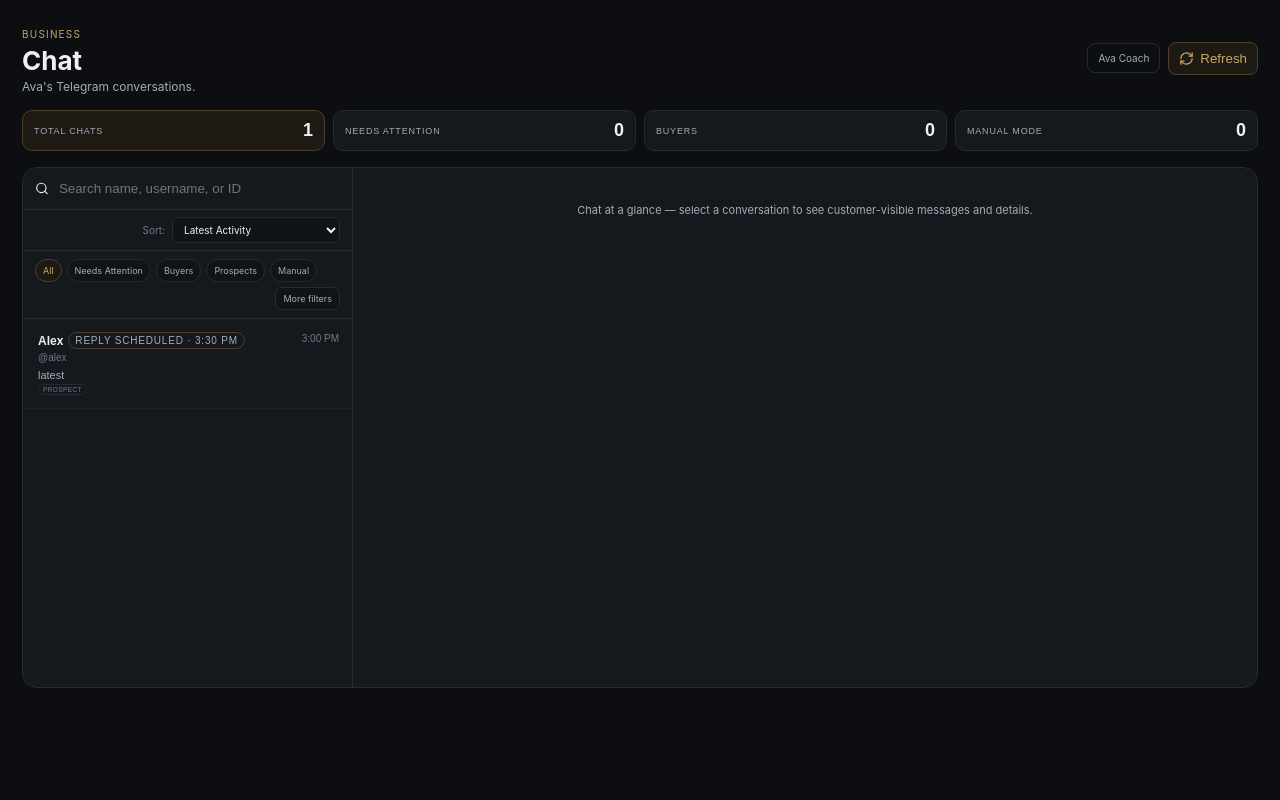
Test: shows a bounded transcript error when messages genuinely do not resolve
Click the button "Alex REPLY SCHEDULED · 3:30 PM @alex latest PROSPECT 3:00 PM": (157, 340) [23,319,352,410]
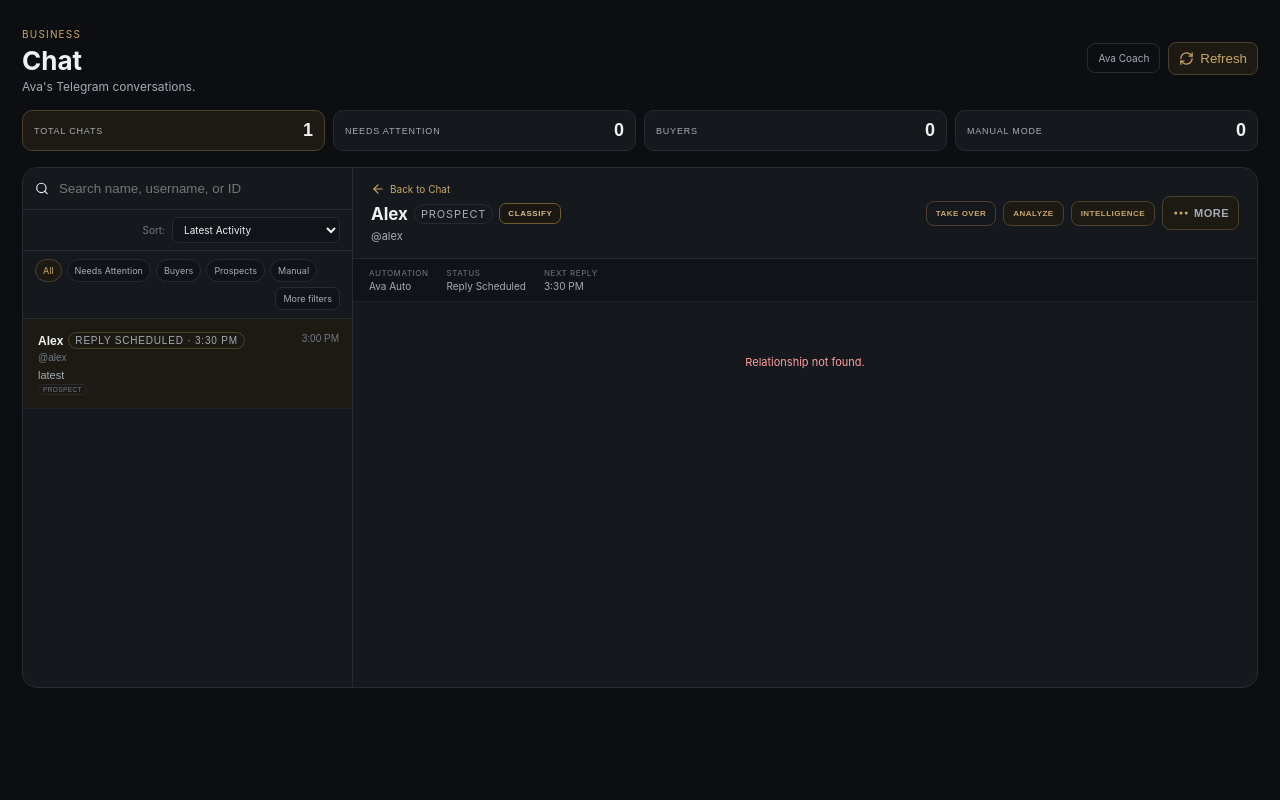
Expected: the message reads "Relationship not found.", [745,355,865,369]
